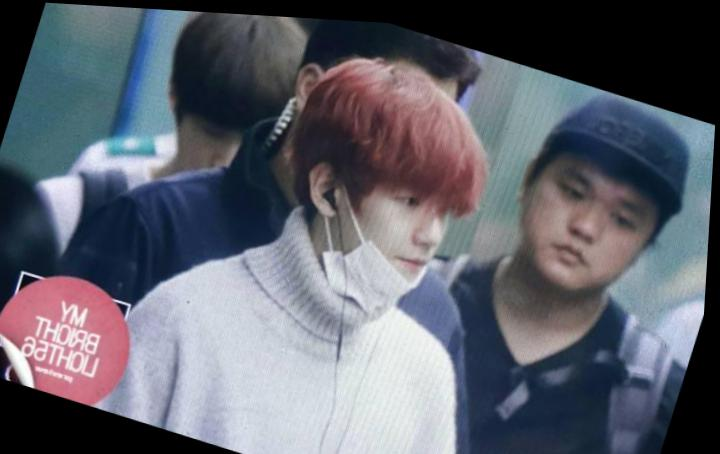NONE: (516, 149, 666, 298)
WRONG: (323, 151, 461, 314)
